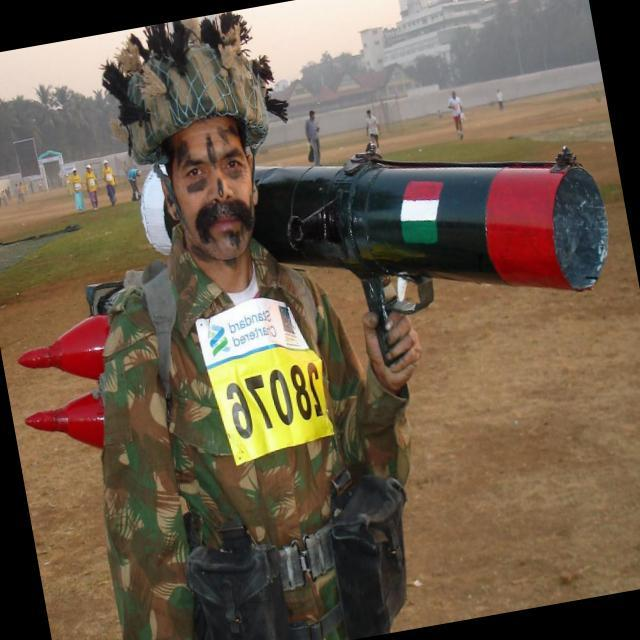rocket: (255, 94, 615, 352)
